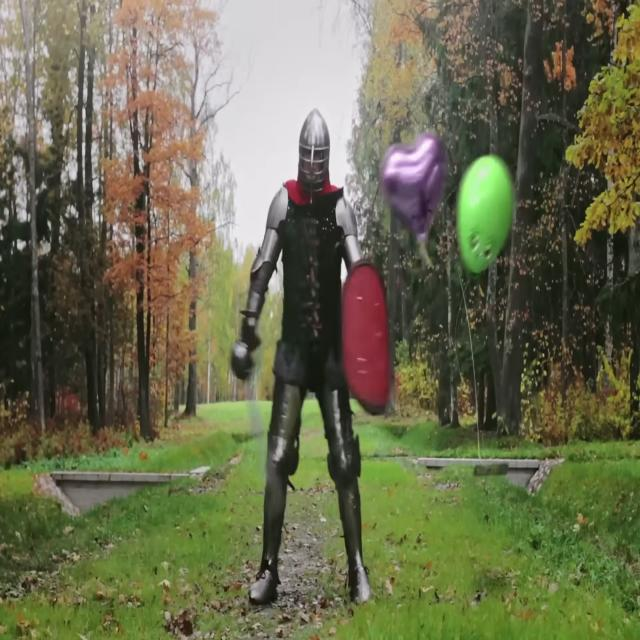balloon: (381, 135, 442, 244), (460, 157, 516, 271)
